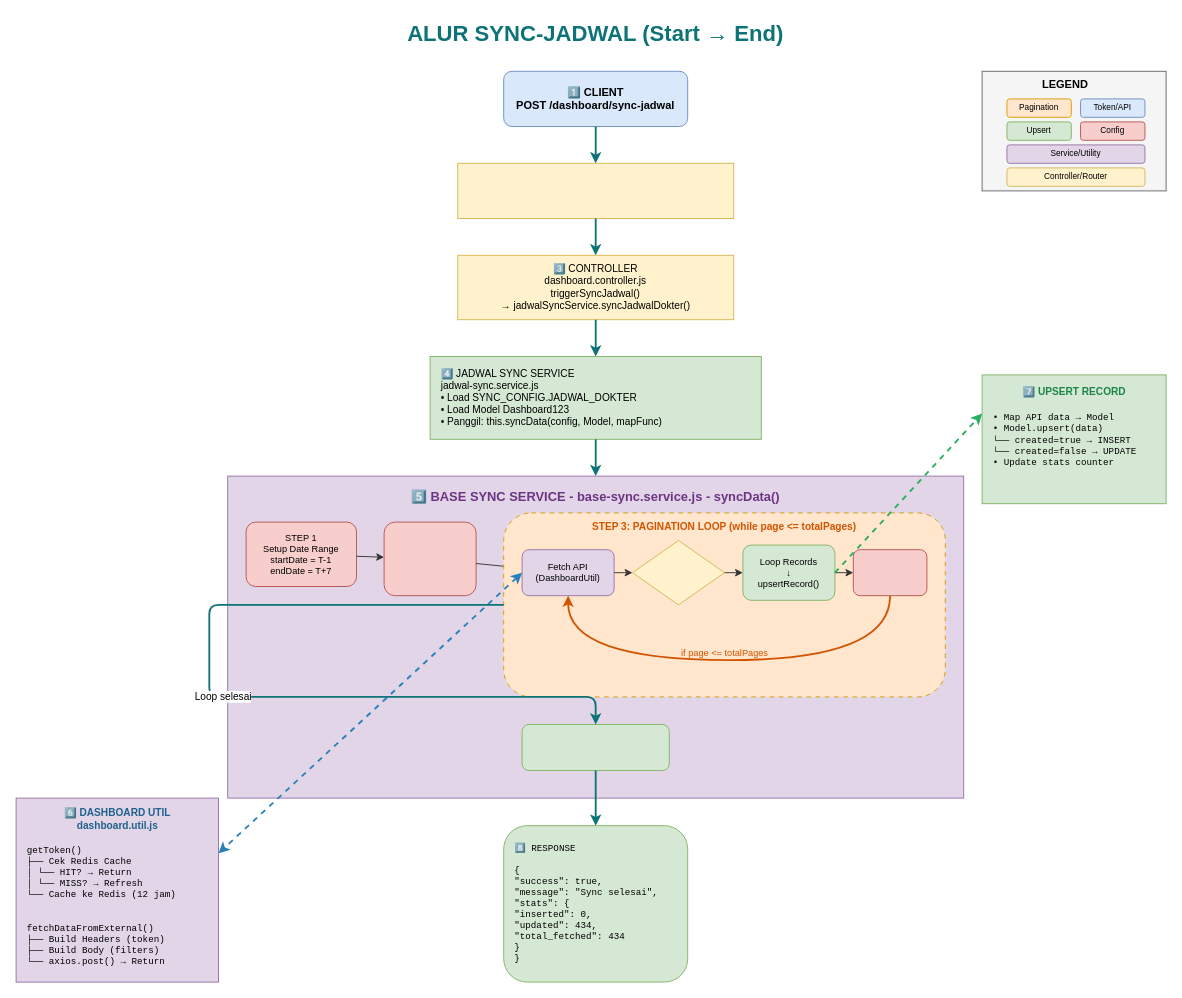
Some shapes in this 1182 by 998 pixel diagram are drawn without their labels. The box of each missing label's shape, as (x1, y1, x2, y2) in pixels:
2️⃣ ROUTER modules/dashboard/router/index.js router.post("/sync-jadwal", ...): (457, 162, 734, 218)
page++ delay 200ms: (852, 549, 927, 596)
page==1? Hitung totalPages: (632, 540, 724, 605)
STEP 2 Init Pagination page=1 totalPages=1 limit=10: (383, 521, 476, 596)
STEP 4 Return Stats {inserted, updated, total}: (521, 724, 669, 770)
